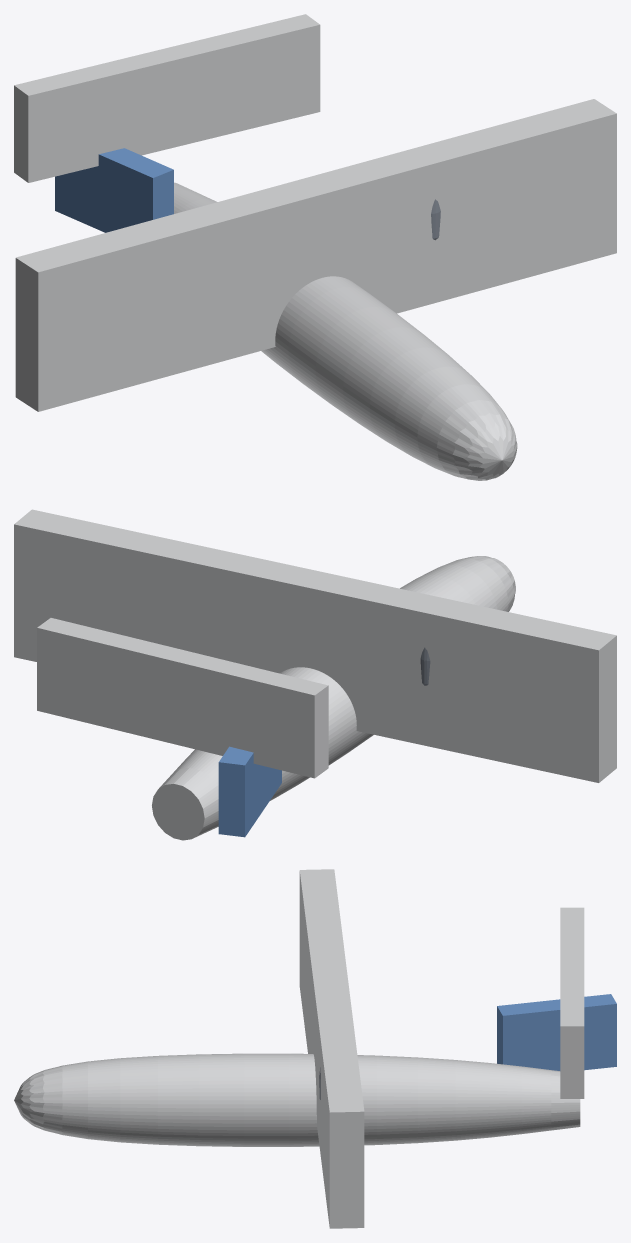
Rendered from aviao.glb.
3 renders of one model, top to bottom at view 1: azimuth 30°, elevation 25°; view 2: azimuth 150°, elevation 25°; view 3: azimuth 270°, elevation 25°, orthographic. The views are drawn at different scales.
Parts seen in each view (by area): view 1: Aviao; view 2: Aviao; view 3: Aviao.
Boxes of the visible parts, bbox=[...] form: Aviao: bbox=[14, 14, 616, 480]; Aviao: bbox=[14, 509, 616, 840]; Aviao: bbox=[14, 869, 616, 1228].
Size of the model in its own units: 2.15 by 0.7247 by 2.26.
